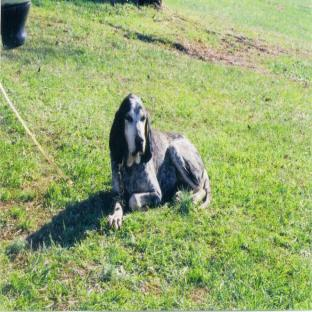Animal: (109, 94, 211, 228)
